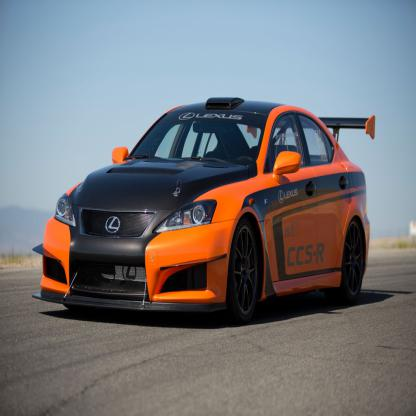Car: (32, 97, 375, 324)
